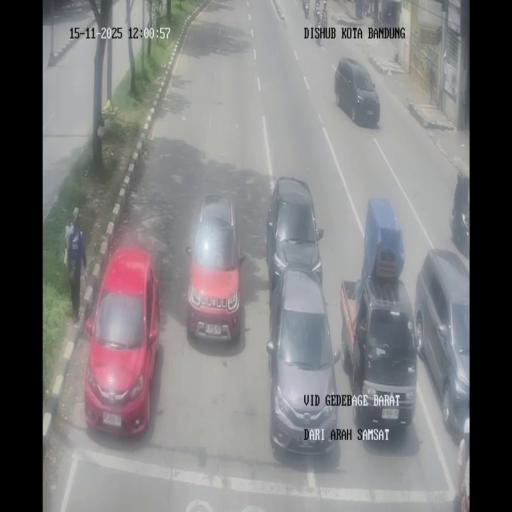car: (84, 248, 160, 436), (266, 266, 340, 458), (414, 250, 469, 436), (334, 56, 380, 126)
truck: (321, 2, 328, 26), (314, 2, 321, 24), (302, 0, 309, 18), (362, 1, 369, 17), (378, 9, 384, 23)
